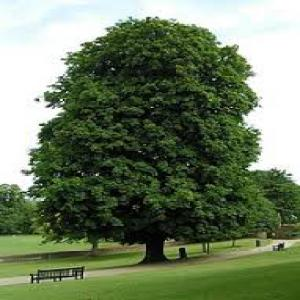Tree: (25, 12, 281, 262)
